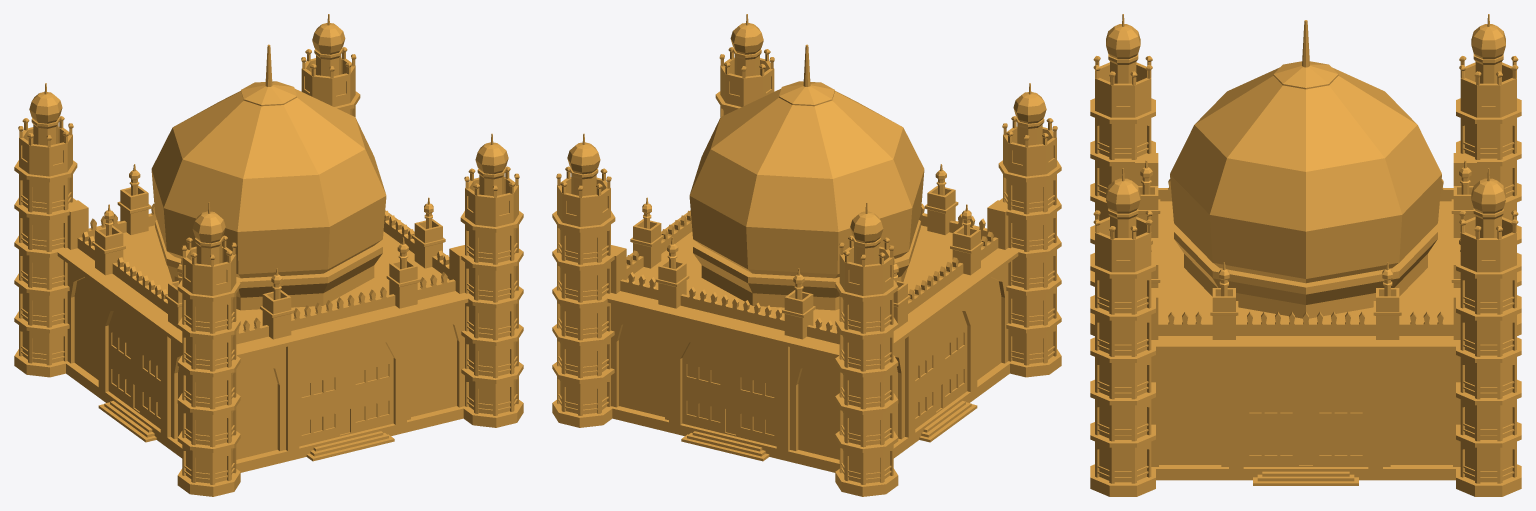
The model's file is hindu-tomb-dome.fbx.
3 renders of one model, left to right at view 1: azimuth 30°, elevation 25°; view 2: azimuth 150°, elevation 25°; view 3: azimuth 270°, elevation 25°, orthographic. The views are drawn at different scales.
Parts seen in each view (by area): view 1: hindu-tomb-dome; view 2: hindu-tomb-dome; view 3: hindu-tomb-dome.
Boxes of the visible parts, <box> form: hindu-tomb-dome: <box>14,14,523,496</box>; hindu-tomb-dome: <box>552,14,1061,496</box>; hindu-tomb-dome: <box>1090,14,1521,496</box>.
Size of the model in its own units: 27.72 by 27.32 by 27.72.
